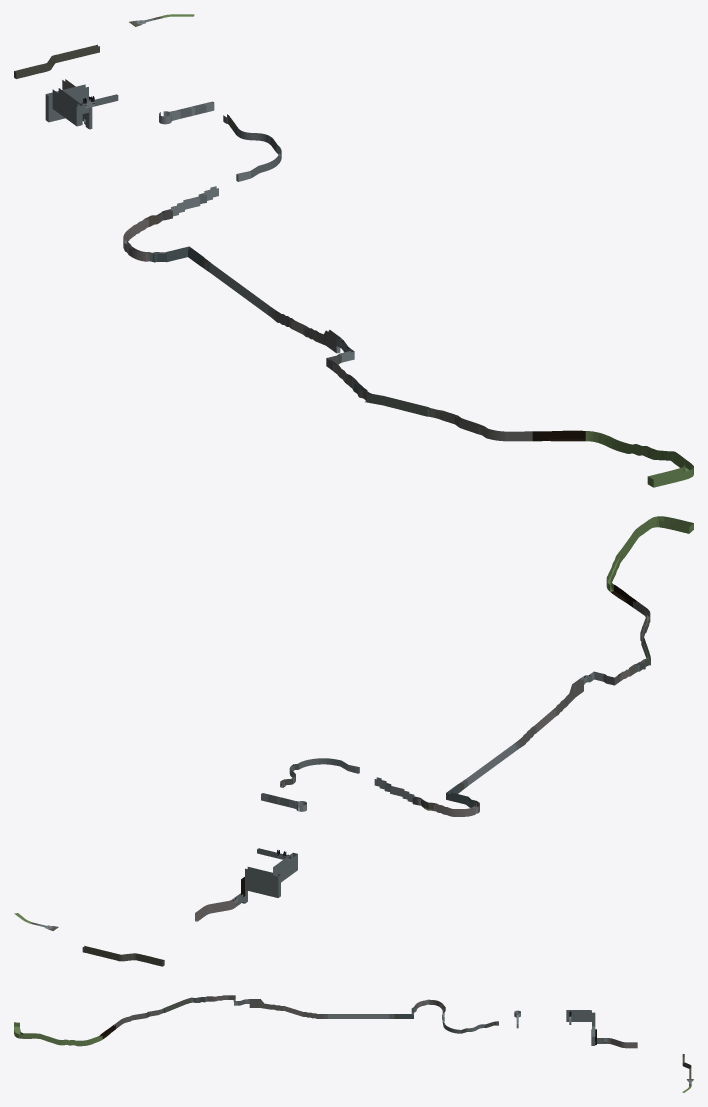
File: CollisionTest6.glb
3 renders of one model, top to bottom at view 1: azimuth 30°, elevation 25°; view 2: azimuth 150°, elevation 25°; view 3: azimuth 270°, elevation 25°, orthographic. The views are drawn at different scales.
Visible parts, largest first — view 1: Walls.001, Wall.002, Wall, Wall.003; view 2: Walls.001, Wall.002; view 3: Walls.001, Wall.002, Wall.
Boxes of the visible parts, x1,y1,x2,y2 form: Walls.001: [123, 186, 693, 487]; Wall.002: [45, 79, 117, 129]; Wall: [223, 114, 281, 181]; Wall.003: [14, 44, 99, 78]; Walls.001: [374, 516, 693, 816]; Wall.002: [195, 848, 297, 921]; Walls.001: [14, 995, 445, 1046]; Wall.002: [566, 1010, 637, 1048]; Wall: [442, 1019, 498, 1033].
Bounding box in the file's own units: 500 × 129 × 1795.
63 materials, 63 textured.
